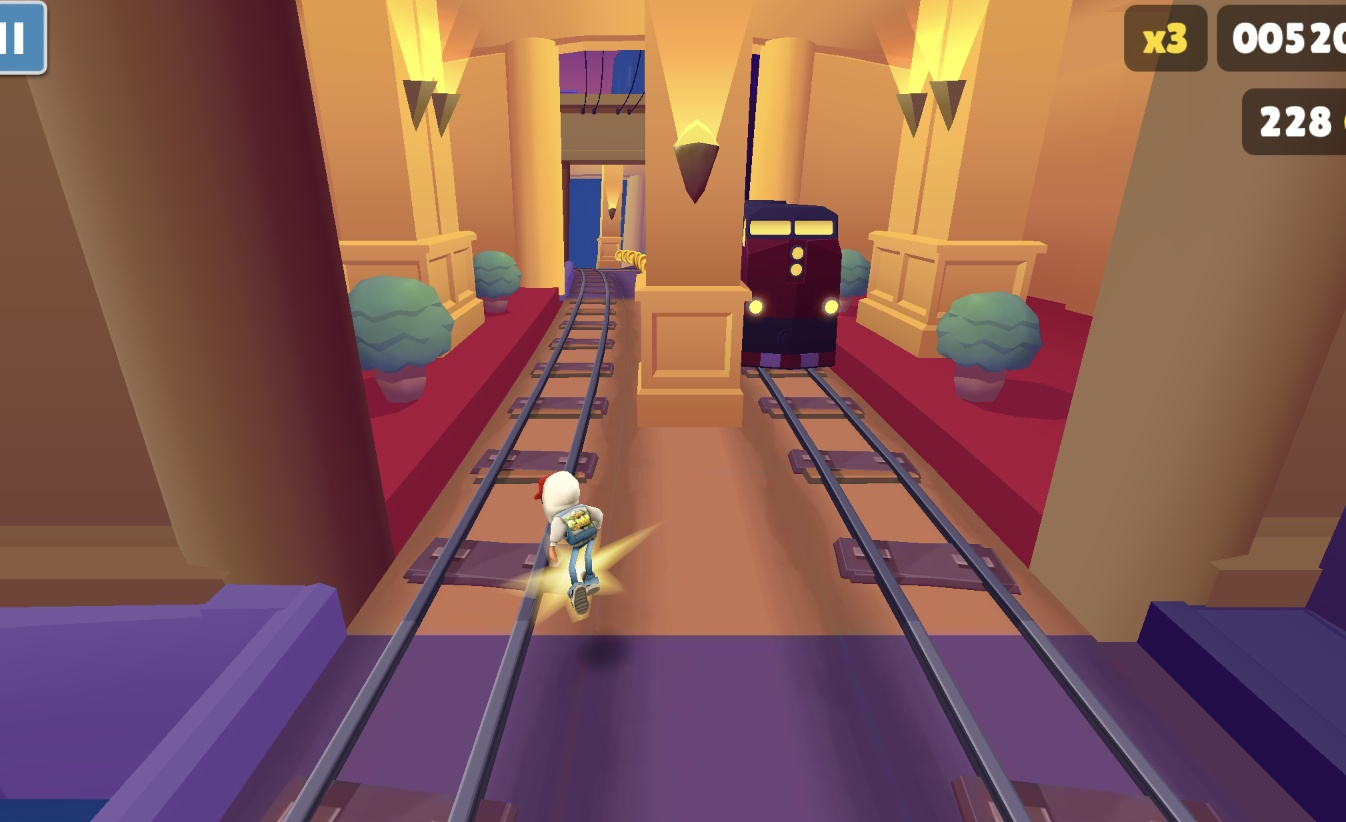pillar: (632, 0, 753, 428), (597, 165, 623, 271)
train: (744, 201, 842, 370)
